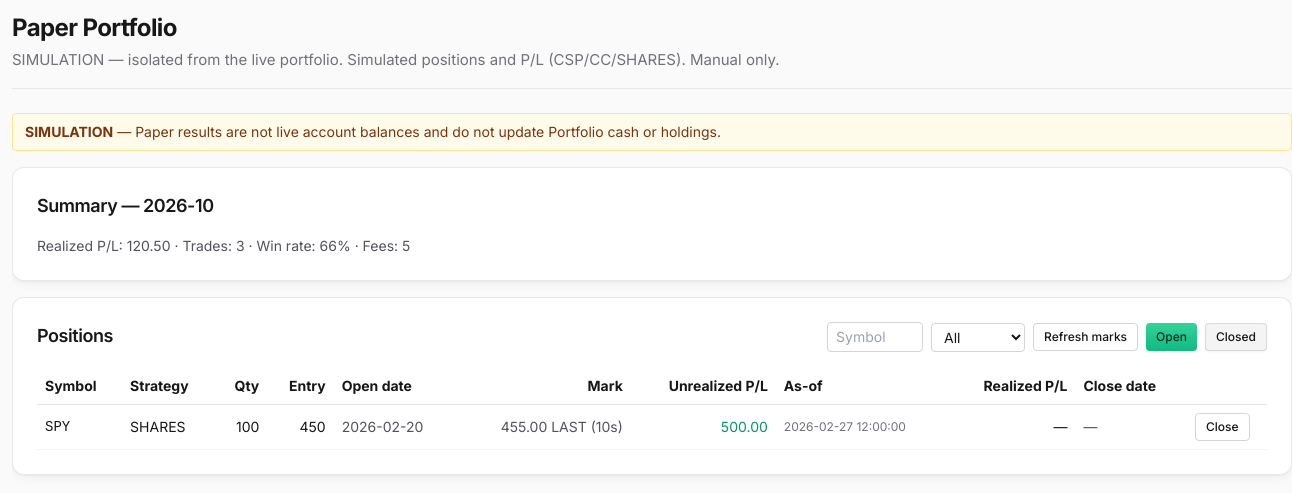
Test case: PaperPage › shows open positions by default and closed after tab switch
Expected: the text "SPY" is shown, [37,405,122,450]
Expected: the number of rows with test id "paper-position-row" is 1, [37,405,1267,450]
Click the button with test id "paper-tab-closed".
click(1236, 337)  # box [1205,323,1267,351]
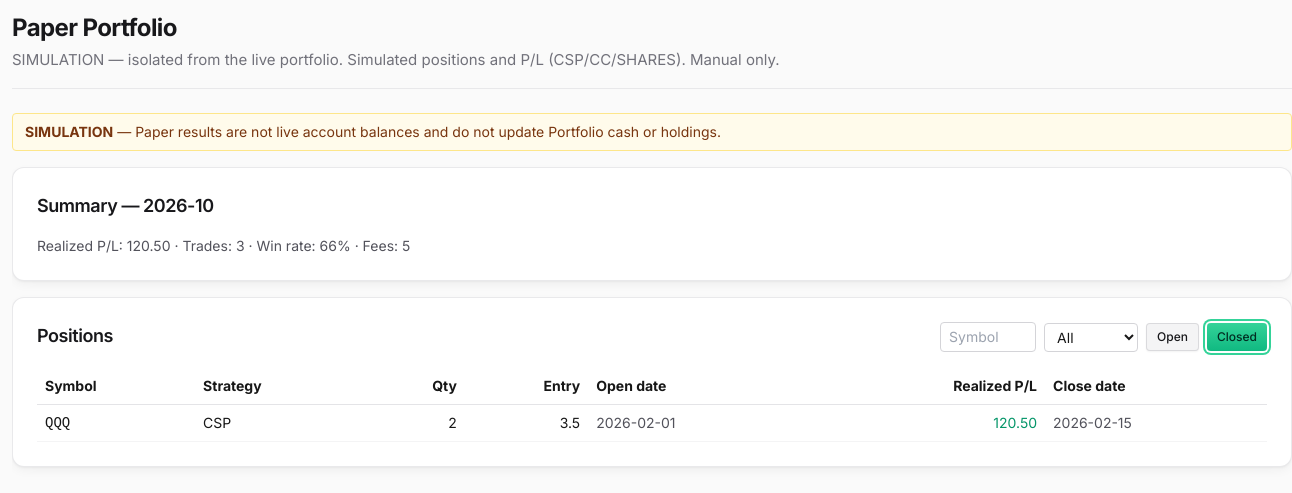
Expected: the number of rows with test id "paper-position-row" is 1, [37,405,1267,442]
Expected: the text "QQQ" is shown, [37,405,195,442]
